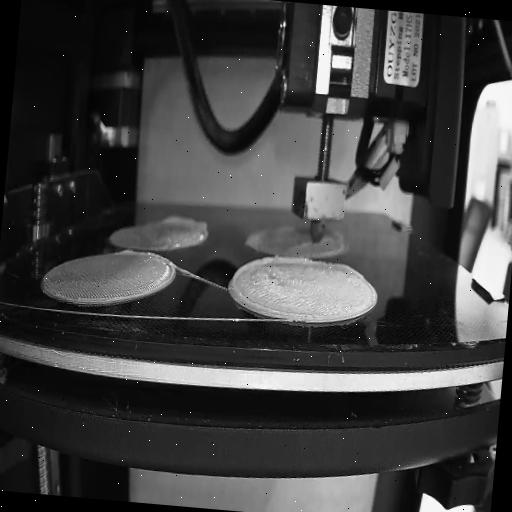over_extrusion: (228, 250, 322, 322), (159, 212, 212, 240), (325, 223, 351, 257), (324, 258, 364, 279), (113, 246, 145, 260), (289, 238, 312, 254)
